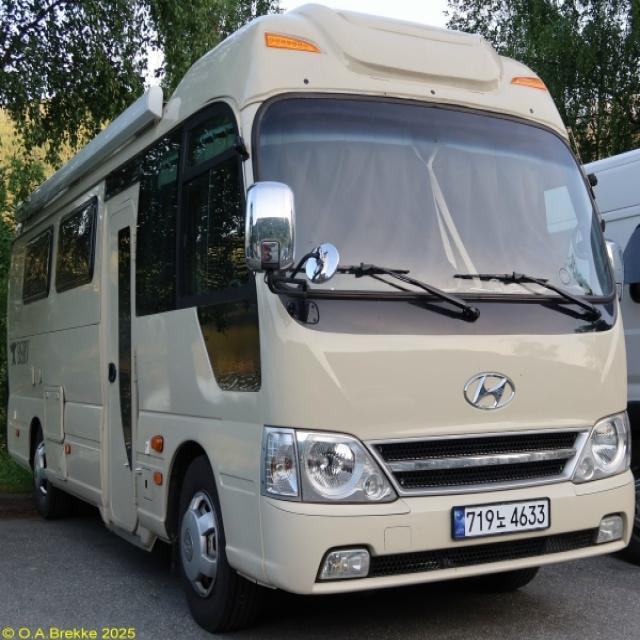car: (430, 479, 571, 561)
